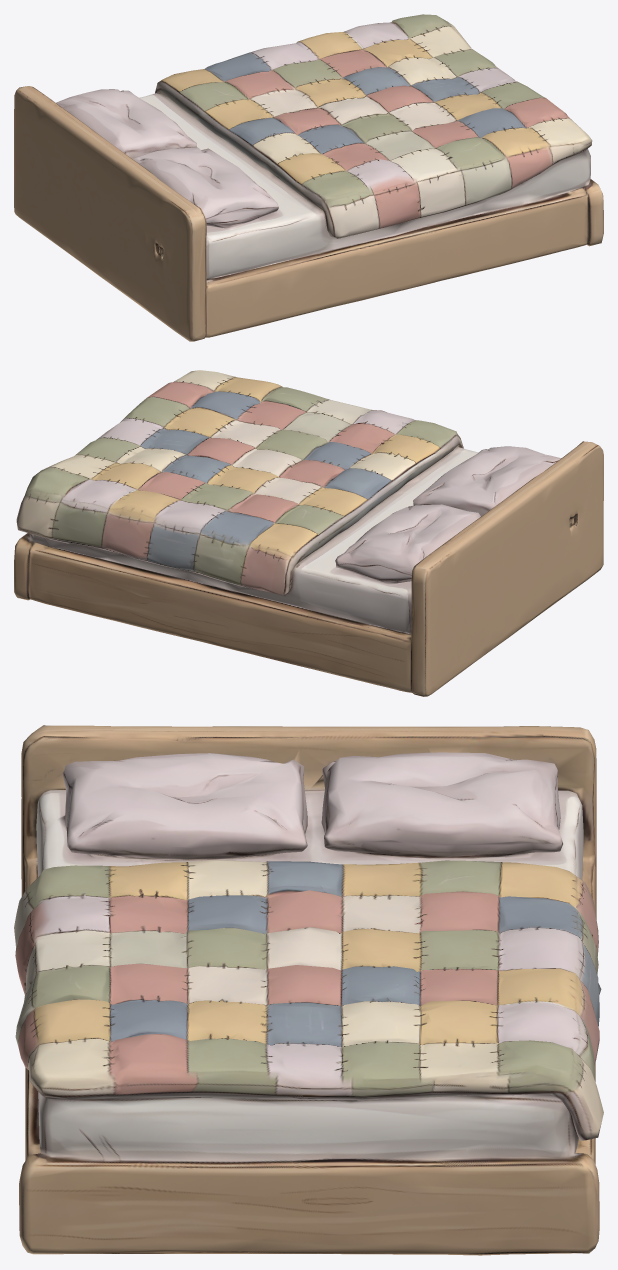
The model's file is raw_bed_double.glb.
3 renders of one model, top to bottom at view 1: azimuth 30°, elevation 25°; view 2: azimuth 150°, elevation 25°; view 3: azimuth 270°, elevation 25°, orthographic. The views are drawn at different scales.
Visible parts, largest first — view 1: tripo_node_710c5183-59b7-41ea-84fb-0d6b5fdf59c0; view 2: tripo_node_710c5183-59b7-41ea-84fb-0d6b5fdf59c0; view 3: tripo_node_710c5183-59b7-41ea-84fb-0d6b5fdf59c0.
Part boxes in pixels (box(x1,y1,x2,y2)): tripo_node_710c5183-59b7-41ea-84fb-0d6b5fdf59c0: box(14, 14, 603, 341); tripo_node_710c5183-59b7-41ea-84fb-0d6b5fdf59c0: box(14, 370, 603, 696); tripo_node_710c5183-59b7-41ea-84fb-0d6b5fdf59c0: box(14, 725, 603, 1255).
Bounding box in the file's own units: 1 × 0.3006 × 0.7659.
1 material, 1 textured.
